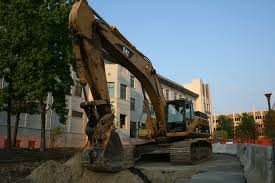excavator: (67, 2, 214, 169)
